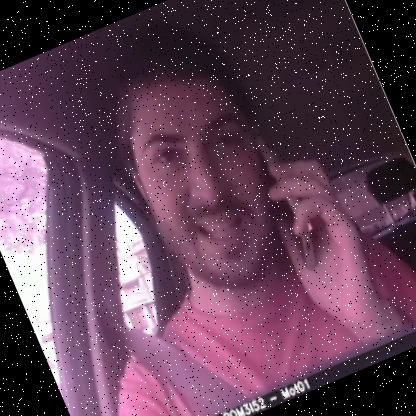phone: (230, 116, 335, 284)
